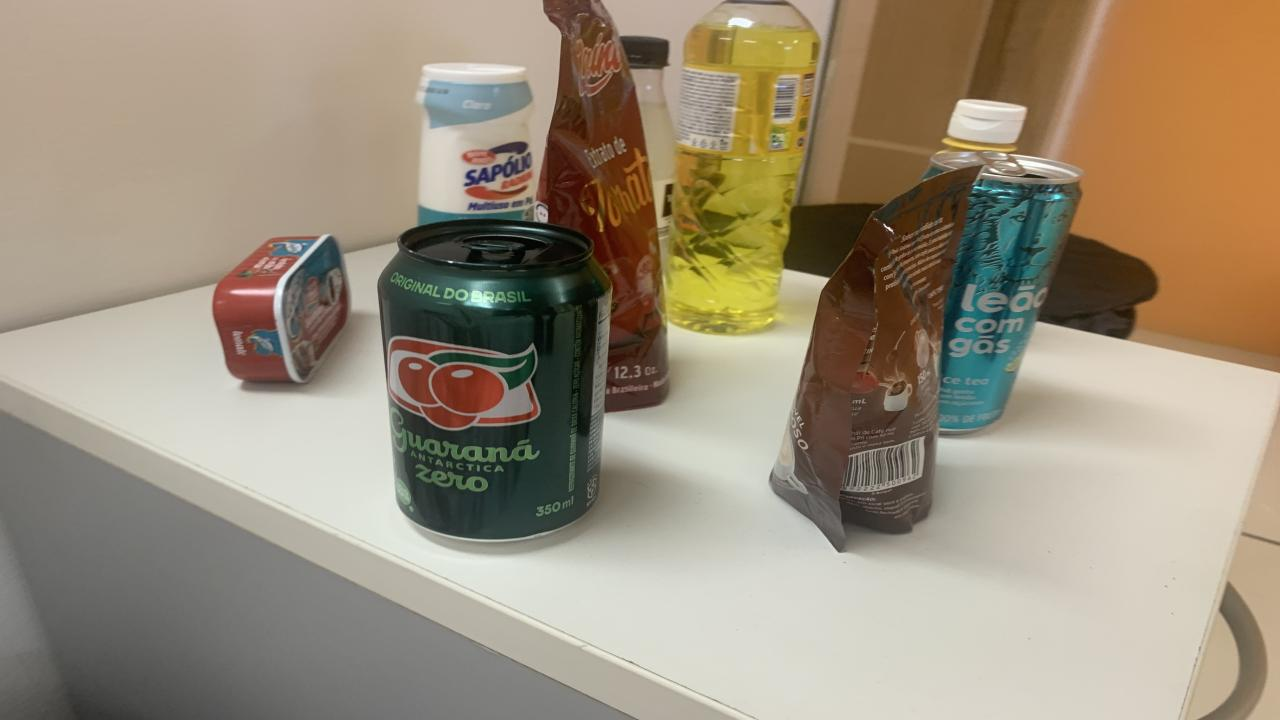Cleaner-Cleanup_Items: (415, 62, 538, 225)
Coffee-Pantry_Items: (770, 165, 980, 549)
Detergent-Cleanup_Items: (668, 0, 820, 334)
Guarana_Can-Drinks: (378, 221, 610, 540)
Mustard-Pantry_Items: (942, 99, 1028, 154)
Soda-Drinks: (620, 36, 675, 257)
Tea-Drinks: (922, 150, 1082, 433)
Tomato_Sauce-Pantry_Items: (535, 0, 668, 411)
Tuna_Can-Pantry_Items: (212, 234, 350, 382)
